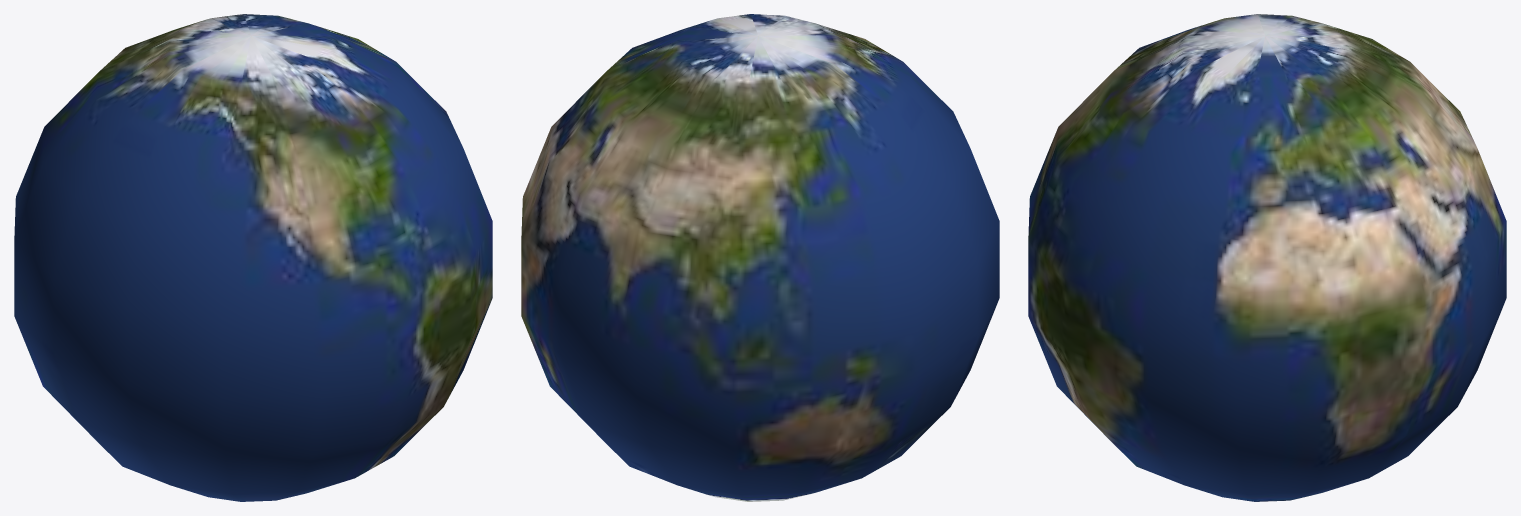
The model's file is tinyearth.fbx.
The picture shows the model from 3 angles, left to right: view 1: azimuth 30°, elevation 25°; view 2: azimuth 150°, elevation 25°; view 3: azimuth 270°, elevation 25°; orthographic projection.
Parts seen in each view (by area): view 1: Sphere.003; view 2: Sphere.003; view 3: Sphere.003.
Part boxes in pixels (<box>): Sphere.003: <box>14,14,492,501</box>; Sphere.003: <box>521,14,999,501</box>; Sphere.003: <box>1028,14,1506,501</box>.
Bounding box in the file's own units: 0.8697 × 0.8881 × 0.8663.
